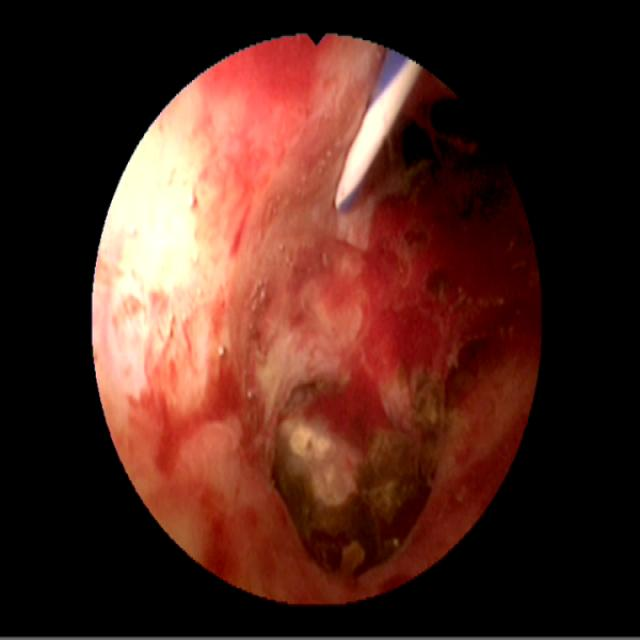stone: (274, 370, 449, 573)
tissue: (97, 50, 533, 593)
